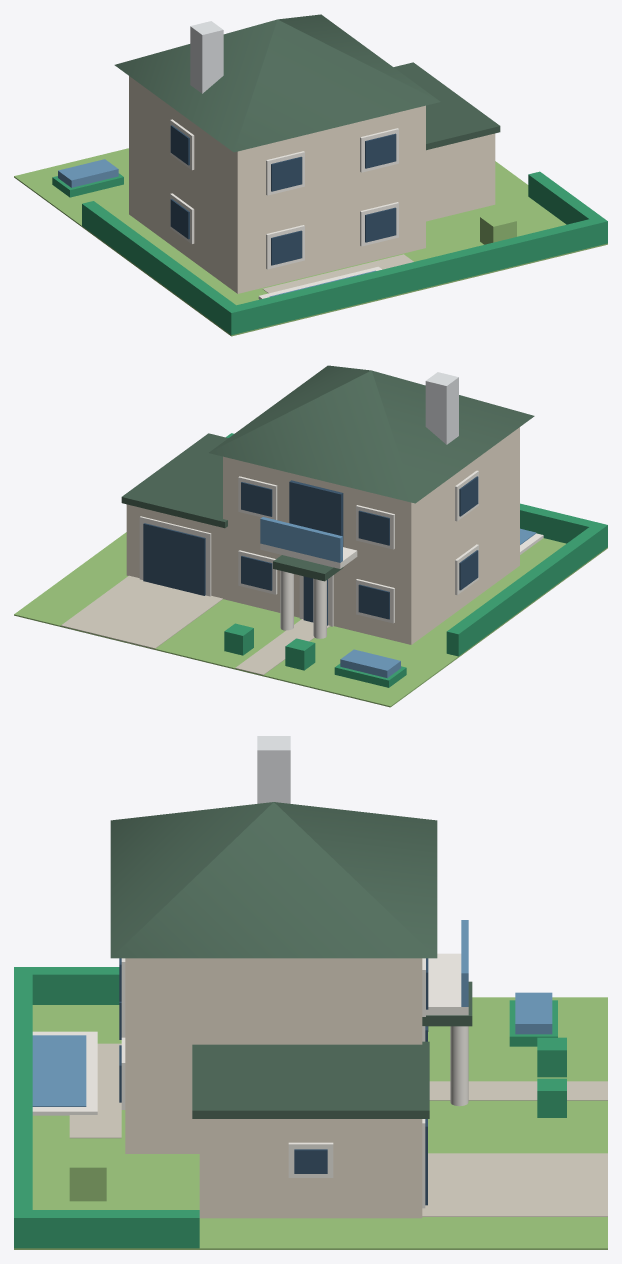
3 renders of one model, top to bottom at view 1: azimuth 30°, elevation 25°; view 2: azimuth 150°, elevation 25°; view 3: azimuth 270°, elevation 25°, orthographic. The views are drawn at different scales.
Parts seen in each view (by area): view 1: house, roof, hedge (×3), lawn, garage, window_glass (×6), garage_roof, window_frame (×4), chimney, flower_bed, terrace, tree_spot (+2 smaller); view 2: house, roof, lawn, window_glass (×7), hedge (×2), driveway, garage_roof, garage_door, garage, window_frame (×4), balcony_glass, chimney (+10 smaller); view 3: roof, lawn, house, garage, garage_roof, hedge (×3), driveway, pool, terrace, path, clipped_hedge (×2), chimney (+10 smaller).
Part boxes in pixels (x1,y1,x2,y2): house: [129, 76, 425, 293]; roof: [114, 14, 440, 152]; hedge (×3): [82, 171, 607, 335]; lawn: [14, 148, 607, 336]; garage: [426, 133, 495, 221]; window_glass (×6): [170, 125, 396, 265]; garage_roof: [393, 62, 500, 150]; window_frame (×4): [266, 128, 398, 269]; chimney: [190, 21, 223, 93]; flower_bed: [58, 159, 118, 187]; terrace: [263, 254, 413, 293]; tree_spot: [480, 211, 516, 244]; house: [223, 427, 519, 644]; roof: [209, 365, 534, 503]; lawn: [14, 532, 607, 707]; window_glass (×7): [241, 476, 478, 619]; hedge (×2): [446, 503, 607, 656]; driveway: [61, 575, 222, 649]; garage_roof: [121, 433, 228, 528]; garage_door: [143, 523, 205, 595]; garage: [126, 504, 222, 598]; window_frame (×4): [238, 476, 394, 623]; balcony_glass: [260, 517, 342, 562]; chimney: [425, 372, 458, 444]; roof: [110, 802, 437, 958]; lawn: [14, 997, 607, 1249]; house: [125, 958, 422, 1153]; garage: [199, 1119, 422, 1218]; garage_roof: [192, 1041, 429, 1118]; hedge (×3): [14, 967, 199, 1248]; driveway: [422, 1153, 607, 1216]; pool: [32, 1035, 86, 1106]; terrace: [69, 1043, 121, 1138]; path: [429, 1081, 607, 1100]; clipped_hedge (×2): [537, 1037, 566, 1117]; chimney: [257, 736, 290, 803].
Size of the model in its own units: 16 by 9 by 16.
